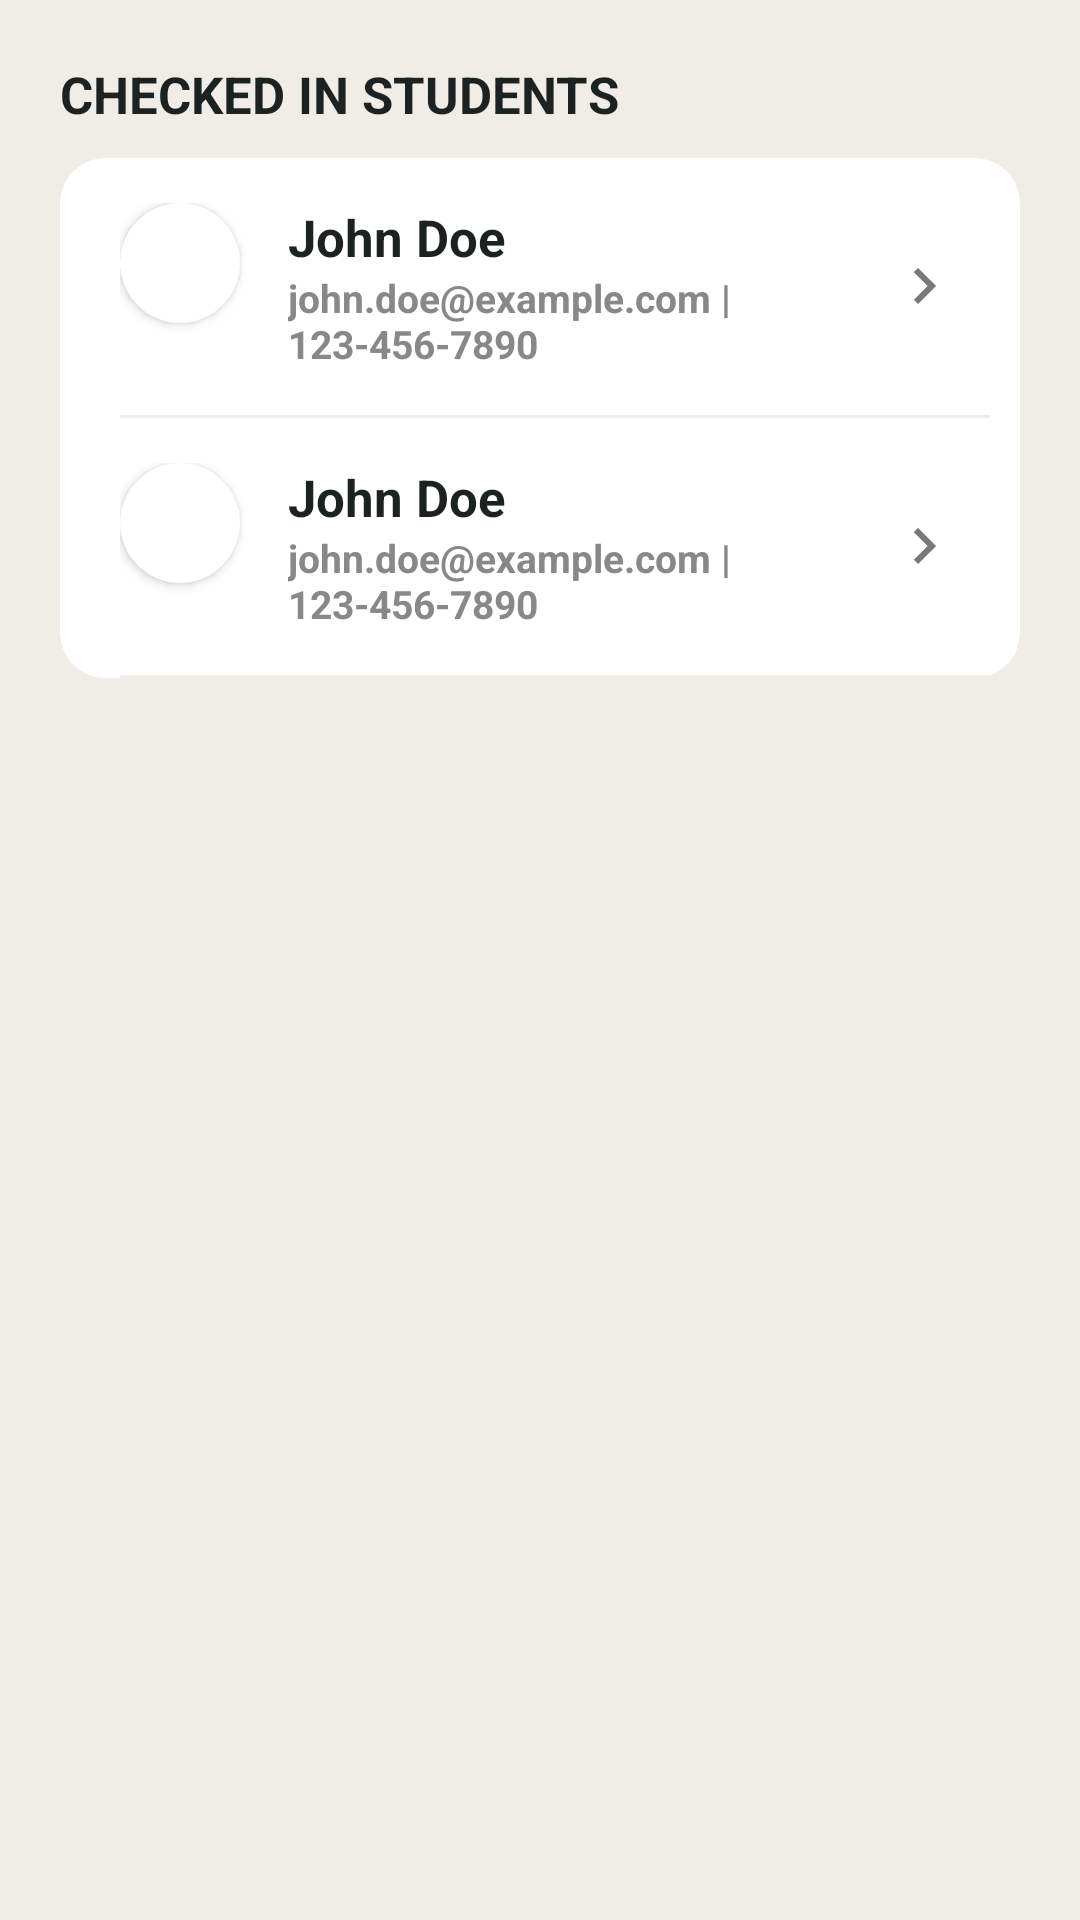

Point at icon controls on the screen. Image size 1080w x 1920h, points as [x,y].
chevron right: [925,286], [925,546]
